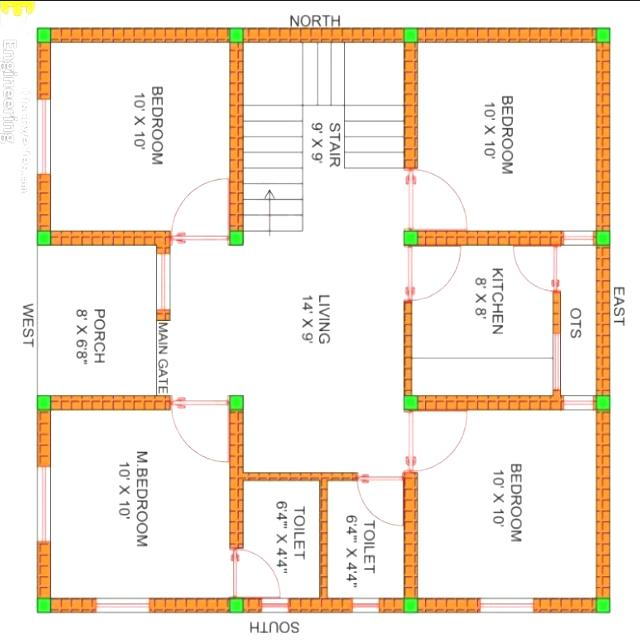Blueprint: (20, 10, 626, 628)
column: (398, 387, 422, 417), (590, 21, 614, 48), (590, 388, 614, 414), (590, 593, 616, 617), (224, 22, 248, 48), (400, 591, 422, 619), (589, 227, 615, 250), (224, 225, 248, 249), (401, 22, 422, 48), (224, 392, 248, 414), (34, 390, 54, 416), (34, 592, 56, 615), (35, 22, 56, 46), (227, 592, 247, 616), (401, 224, 419, 247), (36, 226, 54, 247)
wall: (416, 385, 567, 414), (48, 23, 232, 45), (226, 38, 246, 234), (593, 40, 613, 234), (593, 407, 613, 599), (241, 24, 408, 44), (416, 25, 598, 43), (225, 407, 247, 552), (594, 240, 614, 397), (414, 227, 566, 247), (399, 38, 422, 170), (400, 469, 420, 602), (46, 392, 176, 412), (50, 228, 174, 246), (242, 466, 362, 484), (315, 476, 331, 600), (146, 594, 232, 615), (282, 594, 356, 614), (402, 298, 416, 398), (415, 594, 484, 614), (32, 538, 54, 600), (34, 406, 54, 471), (530, 595, 598, 614), (48, 593, 104, 615), (34, 38, 53, 101), (35, 171, 53, 233), (548, 288, 564, 336), (376, 594, 406, 614), (240, 594, 266, 616), (154, 307, 174, 321)
